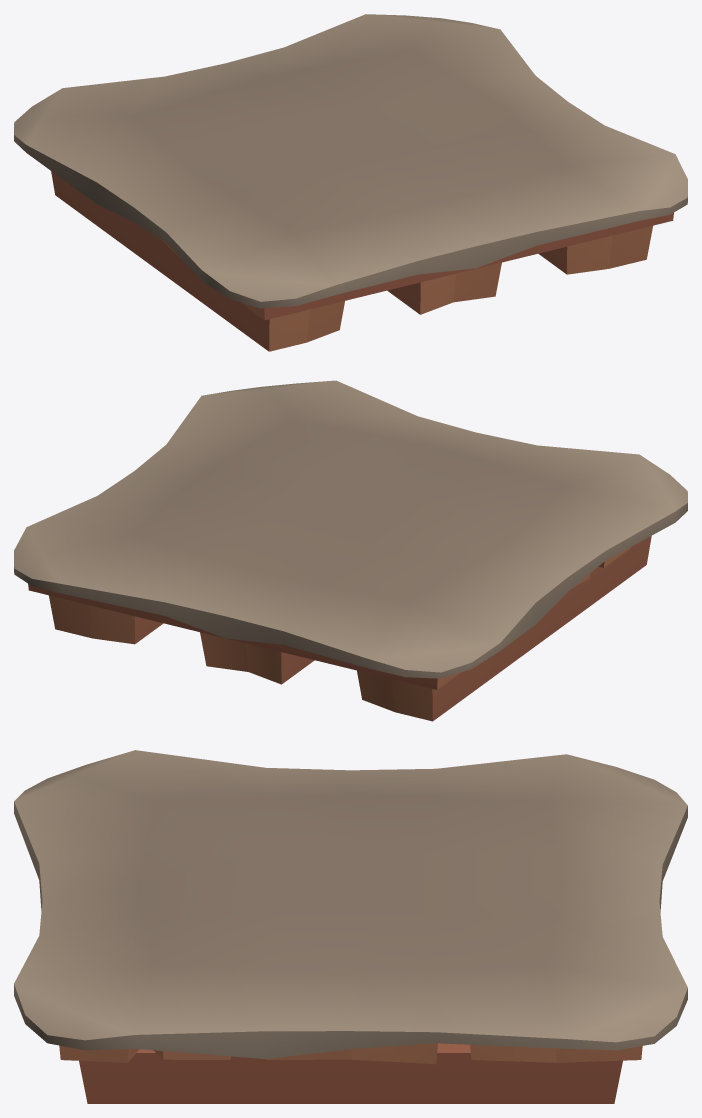
Rendered from Pallet_Wood_Covered_B.glb.
3 renders of one model, top to bottom at view 1: azimuth 30°, elevation 25°; view 2: azimuth 150°, elevation 25°; view 3: azimuth 270°, elevation 25°, orthographic. The views are drawn at different scales.
Visible parts, largest first — view 1: Pallet_Wood_Covered_B; view 2: Pallet_Wood_Covered_B; view 3: Pallet_Wood_Covered_B.
Boxes of the visible parts, box(x1,y1,x2,y2) form: Pallet_Wood_Covered_B: box(14, 14, 687, 351); Pallet_Wood_Covered_B: box(14, 380, 687, 721); Pallet_Wood_Covered_B: box(14, 750, 687, 1103).
Bounding box in the file's own units: 1.72 × 0.3 × 1.72.
1 material, 1 textured.
